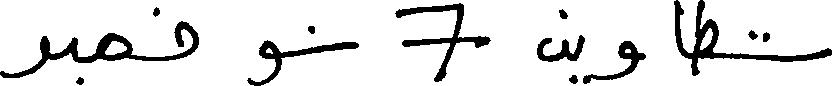X: (396, 0, 488, 85), (0, 31, 47, 82), (595, 36, 634, 84), (539, 4, 565, 66), (696, 0, 716, 79), (249, 35, 279, 85), (98, 28, 130, 65), (176, 16, 196, 63), (577, 30, 582, 85), (677, 0, 680, 85), (819, 43, 831, 62), (348, 37, 357, 53), (71, 32, 75, 66)
